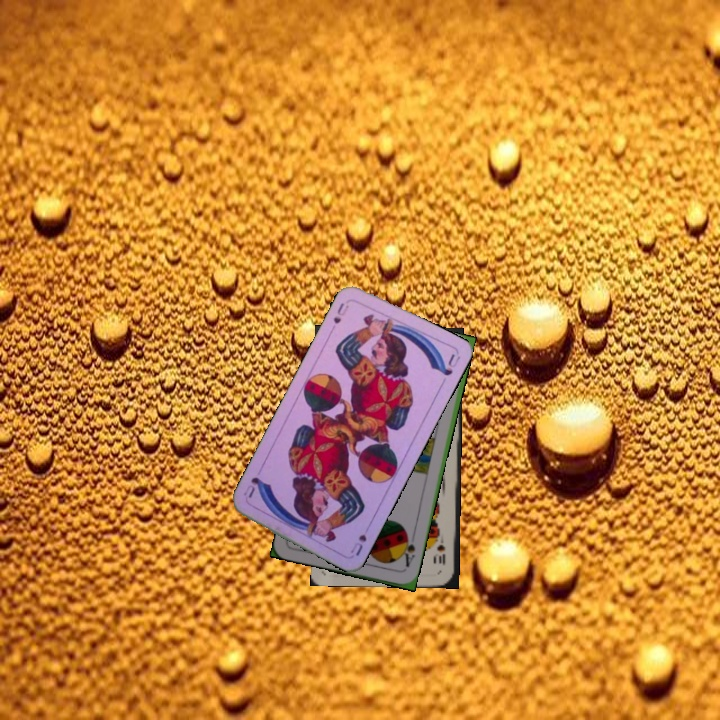S10: (435, 531, 448, 568)
SA: (397, 530, 418, 570)
SU: (346, 530, 369, 559), (329, 299, 352, 326)
